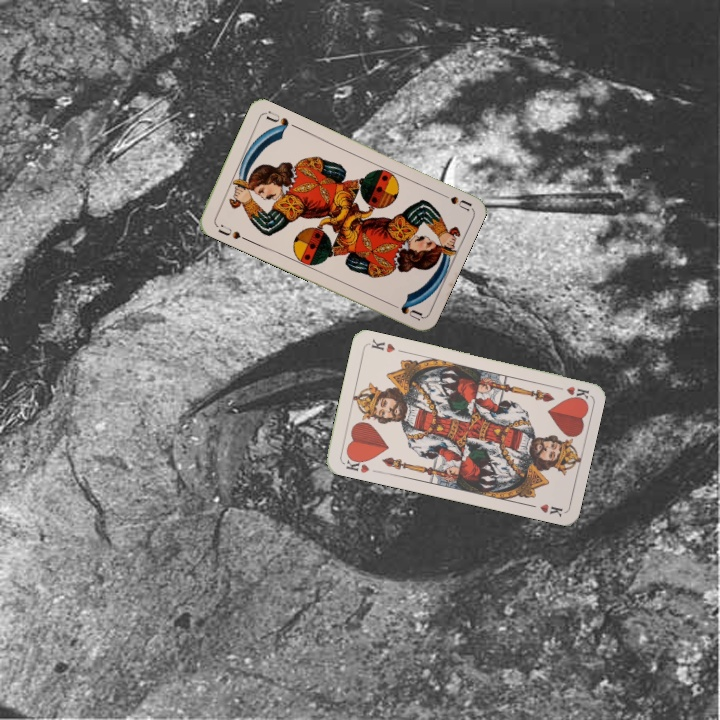HK: (550, 382, 591, 402), (339, 452, 372, 475)
SU: (433, 188, 473, 213), (214, 221, 250, 243)
